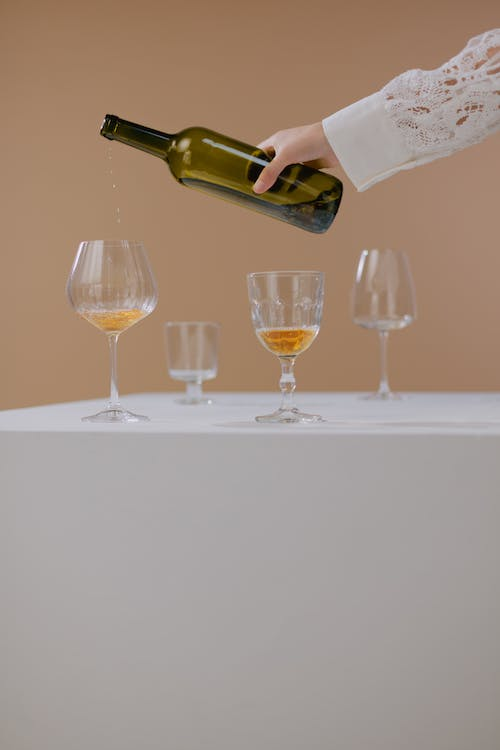alcohol: (97, 112, 344, 236), (65, 239, 160, 425), (245, 269, 327, 425)
